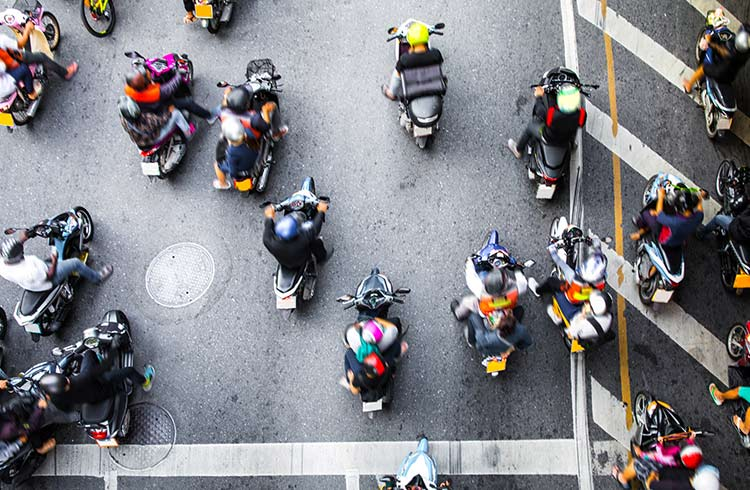bike: (50, 304, 133, 455), (4, 208, 95, 330), (547, 216, 611, 358), (523, 63, 589, 197), (263, 182, 331, 311), (468, 232, 526, 381), (217, 64, 285, 191), (126, 53, 193, 178), (351, 271, 404, 415), (628, 391, 707, 487), (636, 170, 688, 308), (696, 9, 744, 157), (395, 18, 446, 149), (1, 3, 48, 123), (718, 163, 750, 294)
